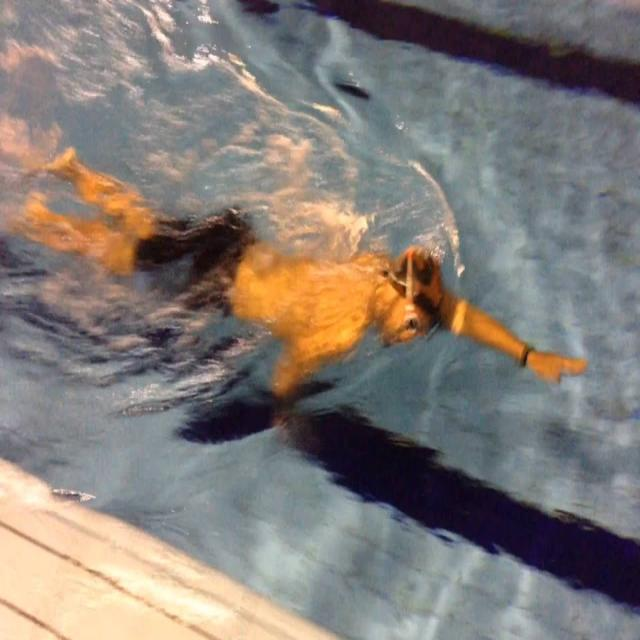swimming: (34, 92, 592, 506)
